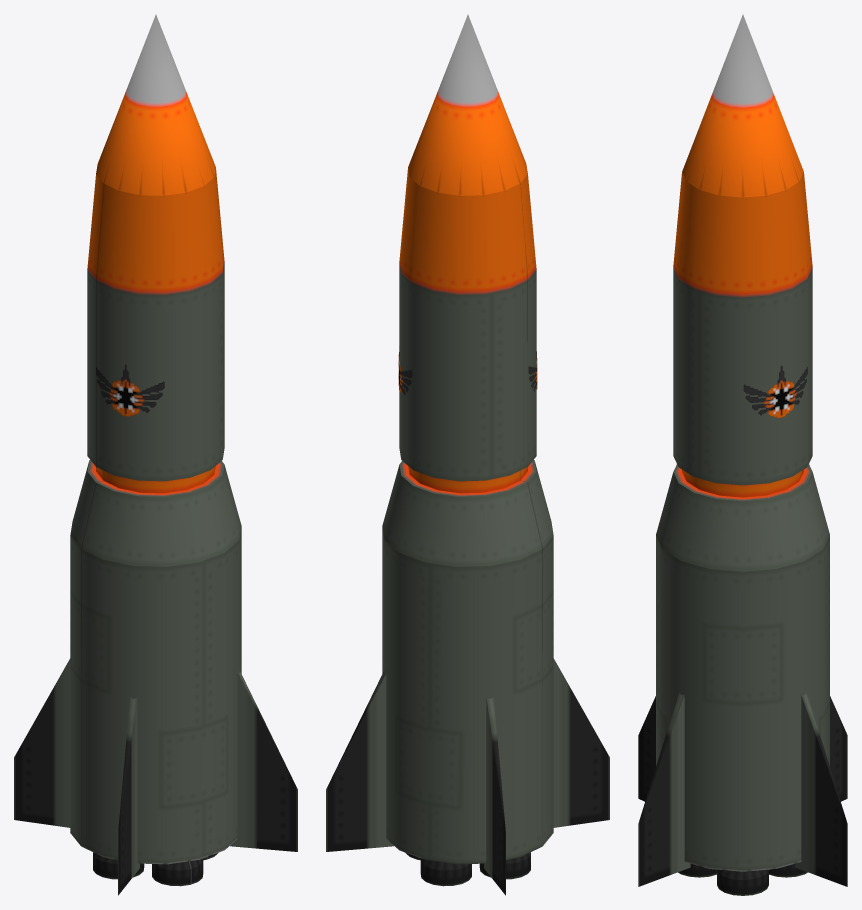
File: missile_inferno.obj
3 renders of one model, left to right at view 1: azimuth 30°, elevation 25°; view 2: azimuth 150°, elevation 25°; view 3: azimuth 270°, elevation 25°, orthographic.
Parts seen in each view (by area): view 1: missile_inferno; view 2: missile_inferno; view 3: missile_inferno.
Part boxes in pixels (<box>): missile_inferno: <box>14,14,297,895</box>; missile_inferno: <box>326,14,609,895</box>; missile_inferno: <box>638,14,847,895</box>.
Size of the model in its own units: 3.01 by 13.5 by 3.01.
